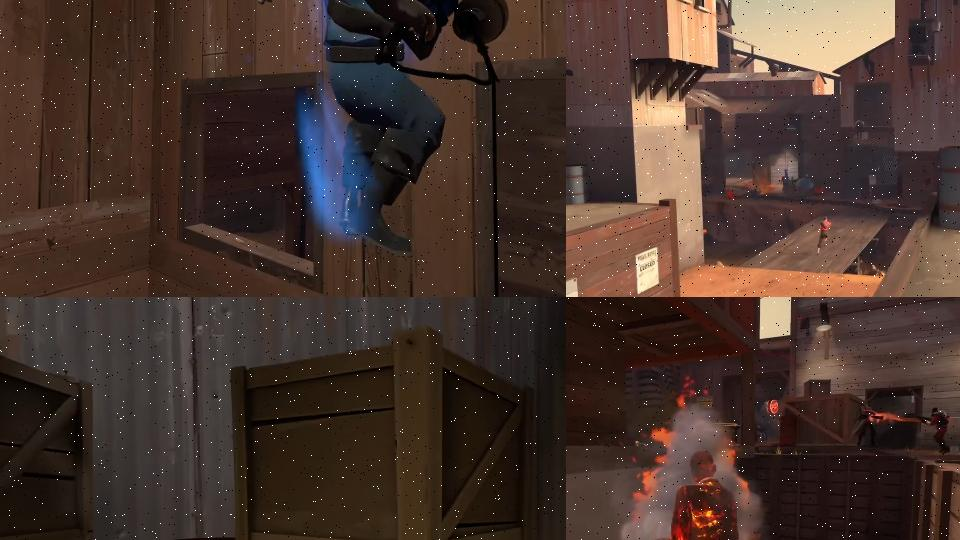Enemy: (254, 0, 518, 261), (643, 448, 776, 540), (915, 404, 957, 459), (849, 397, 886, 452), (816, 215, 834, 256)
